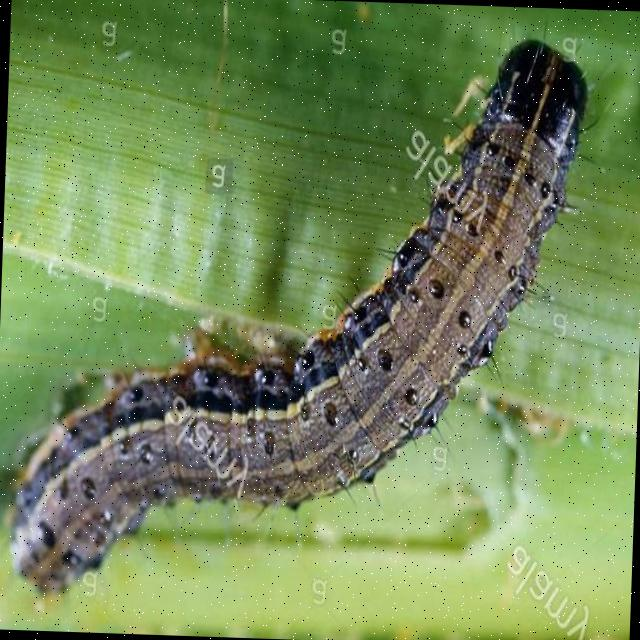worm: (6, 8, 602, 620)
